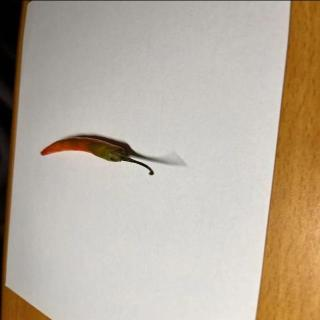Cabai Merah: (41, 137, 155, 176)
